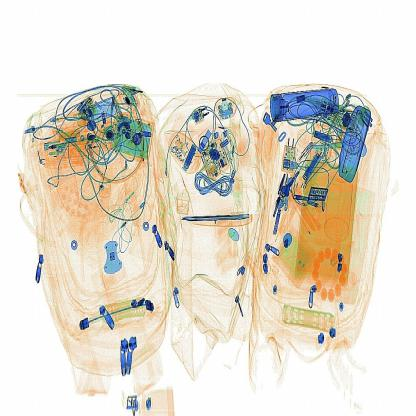pliers: (183, 208, 252, 237)
